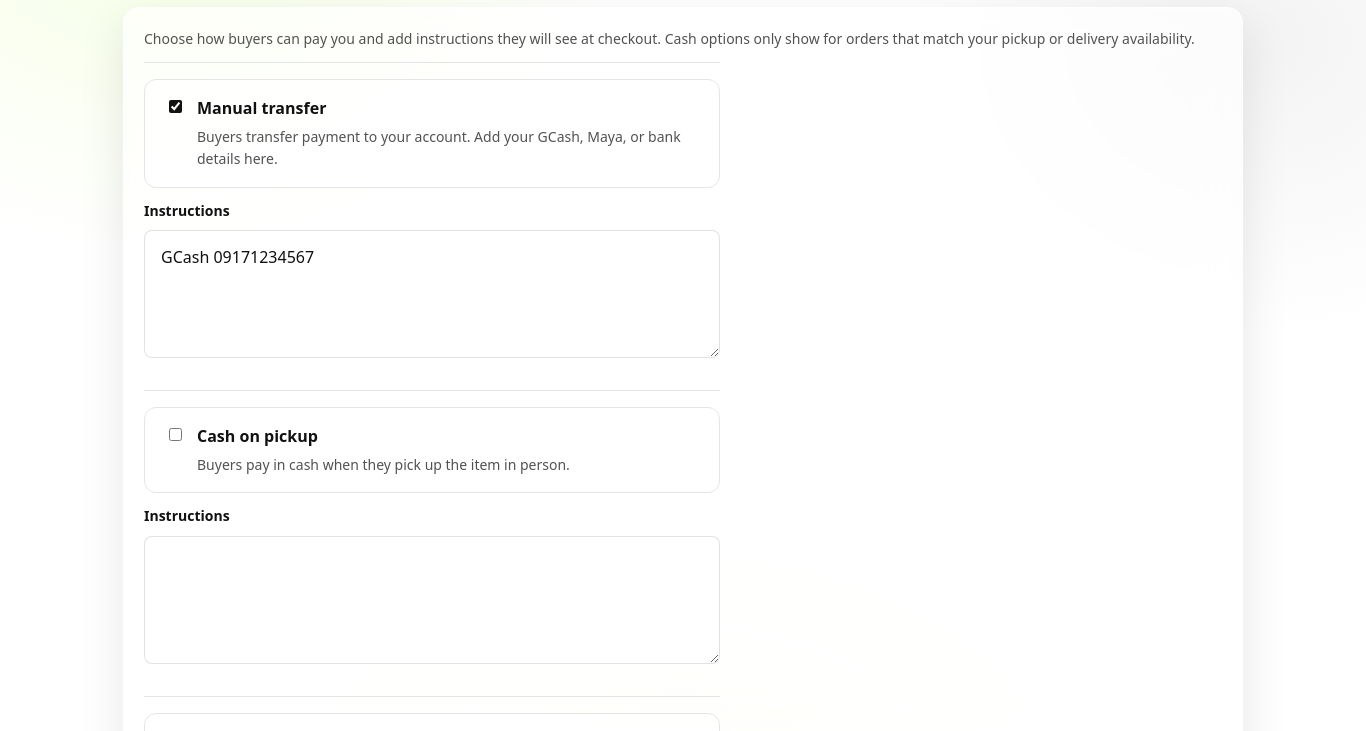
Test case: SellerPaymentSettingsPage › saves all three methods when valid
expect the text "Manual transfer" is shown: met, box [197,97,326,119]
Replace the text in the text box labelled "Instructions" below "Manual transfer" with "GCash 0999" at point(432, 294), box [144,230,720,358]
(page scrolled)
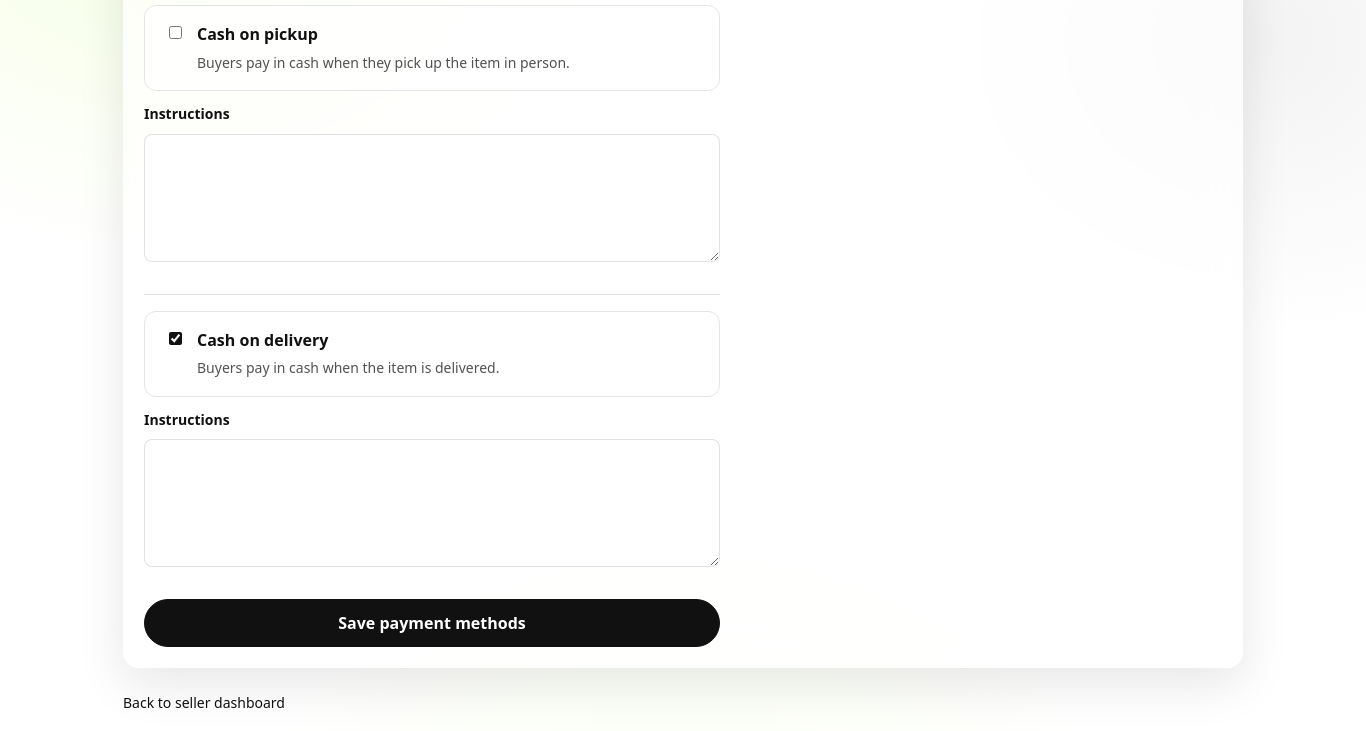
Click the button "Save payment methods" at point(432, 623), box [144,599,720,647]
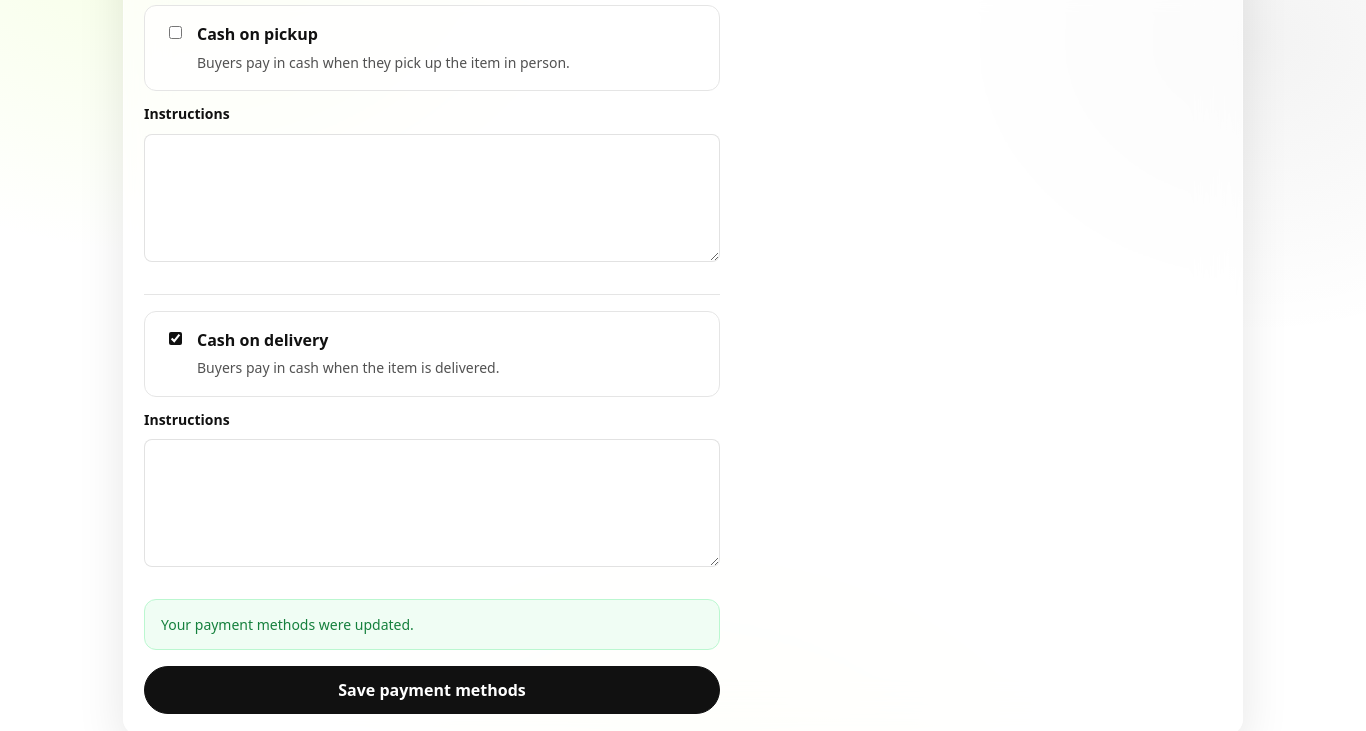
expect the text "Your payment methods were updated." is shown: met, box [144,599,720,650]
